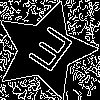E: (20, 25, 76, 81)
